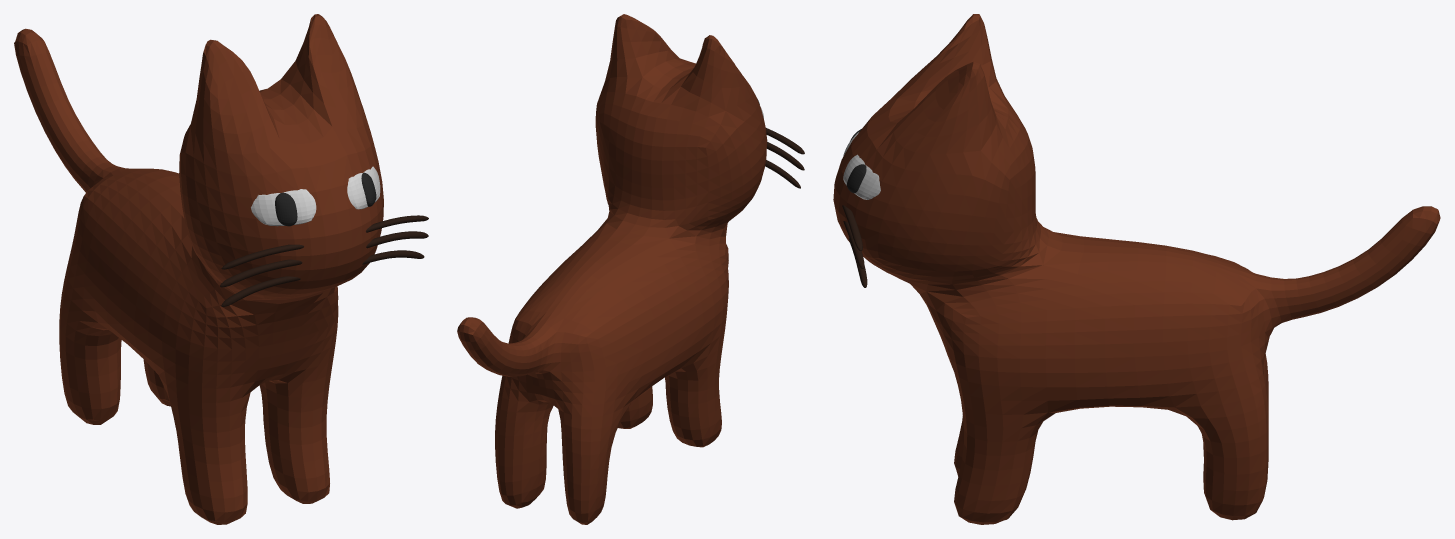
The model's file is cat.obj.
The picture shows the model from 3 angles, left to right: view 1: azimuth 30°, elevation 25°; view 2: azimuth 150°, elevation 25°; view 3: azimuth 270°, elevation 25°; orthographic projection. The views are drawn at different scales.
Bounding box in the file's own units: 168 × 373 × 443.
